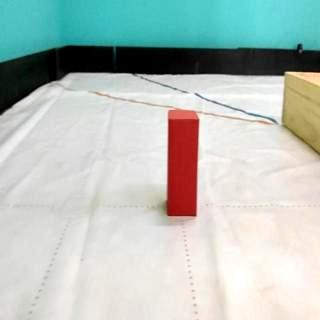redbox: (167, 108, 200, 220)
